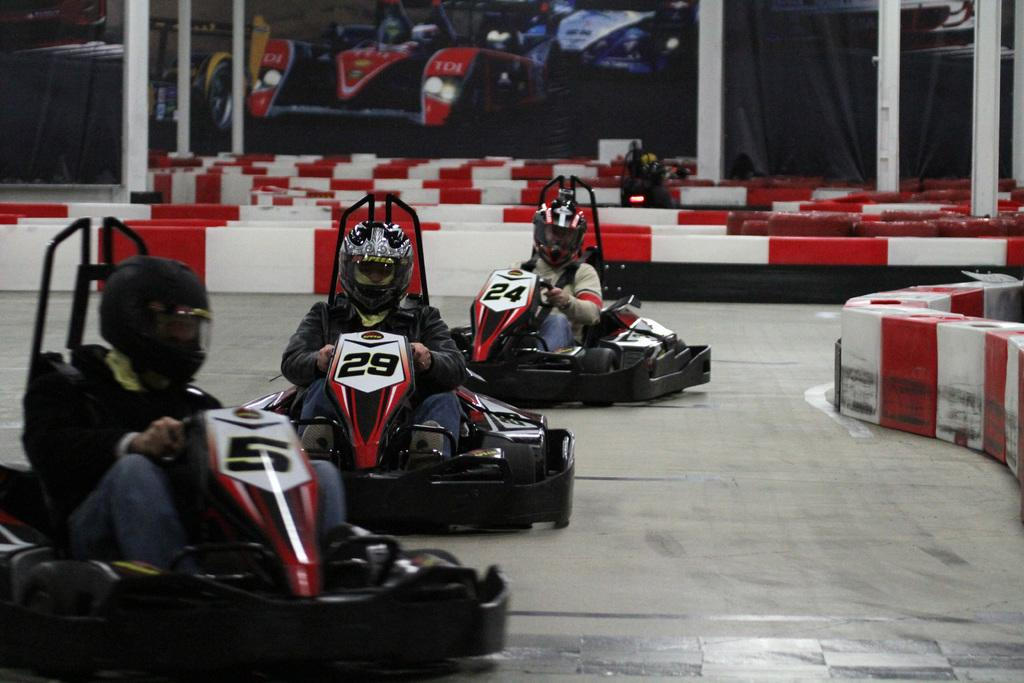helmet: (98, 255, 213, 384), (338, 220, 414, 312), (532, 198, 587, 266), (377, 15, 408, 50)
